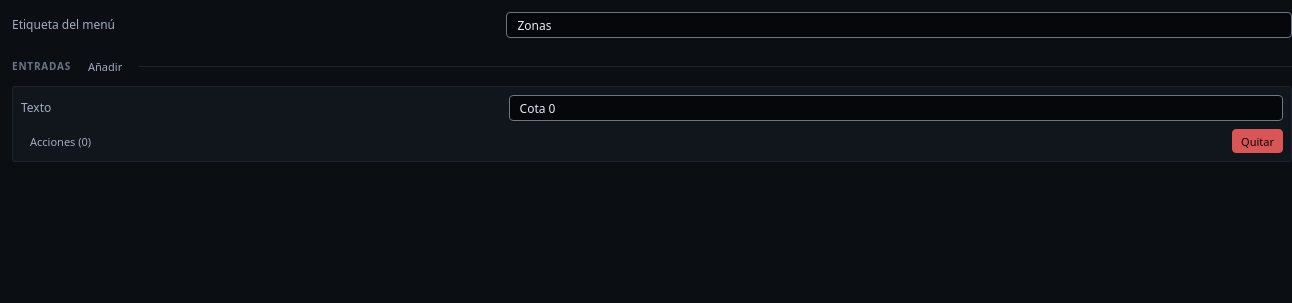
Test: menú desplegable › TEST-SCP-004 las acciones de una entrada se editan donde está la entrada
The width and height of the screenshot is (1292, 303).
Click the button "Acciones (0)" at (61, 141), box [21,129,100,153]
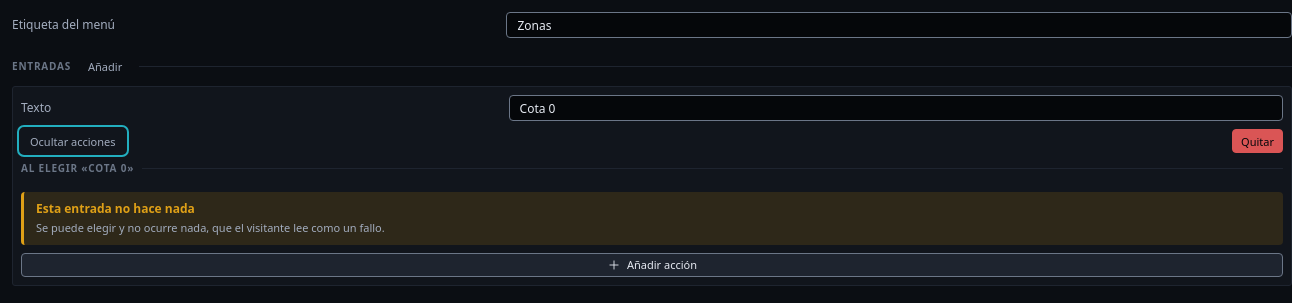
expect the text "Al elegir «Cota 0»" is shown: met, box [21,161,134,176]
expect the text "Esta entrada no hace nada" is shown: met, box [36,200,195,217]
